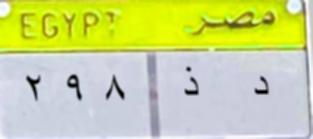2: (24, 71, 46, 108)
8: (103, 72, 130, 107)
9: (60, 67, 85, 104)
daal: (246, 66, 276, 108)
zaal: (178, 66, 203, 101)
